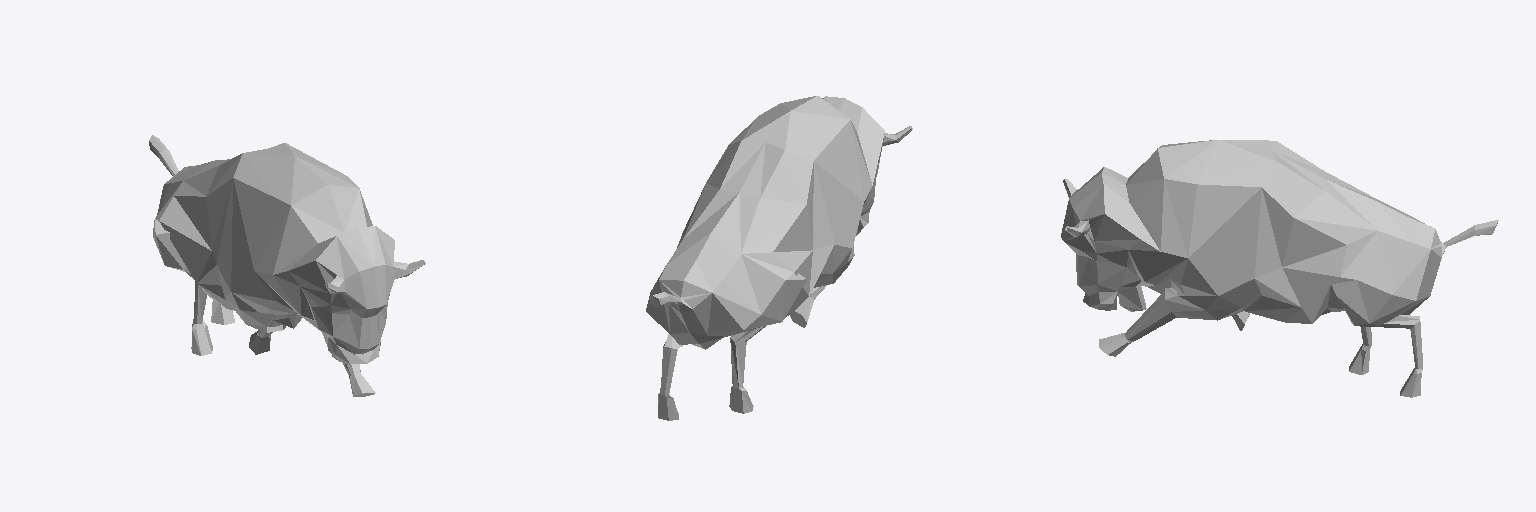
The model's file is bison_006.obj.
3 views of the same model, side by side, from view 1: azimuth 30°, elevation 25°; view 2: azimuth 150°, elevation 25°; view 3: azimuth 270°, elevation 25° (orthographic).
Parts seen in each view (by area): view 1: comp_bison_rig:bison_body comp_bison_rig:bison; view 2: comp_bison_rig:bison_body comp_bison_rig:bison; view 3: comp_bison_rig:bison_body comp_bison_rig:bison.
Part boxes in pixels (bbox=[...]): comp_bison_rig:bison_body comp_bison_rig:bison: bbox=[149, 135, 425, 396]; comp_bison_rig:bison_body comp_bison_rig:bison: bbox=[646, 96, 912, 420]; comp_bison_rig:bison_body comp_bison_rig:bison: bbox=[1061, 140, 1498, 397].
Bounding box in the file's own units: 118 × 194 × 320.